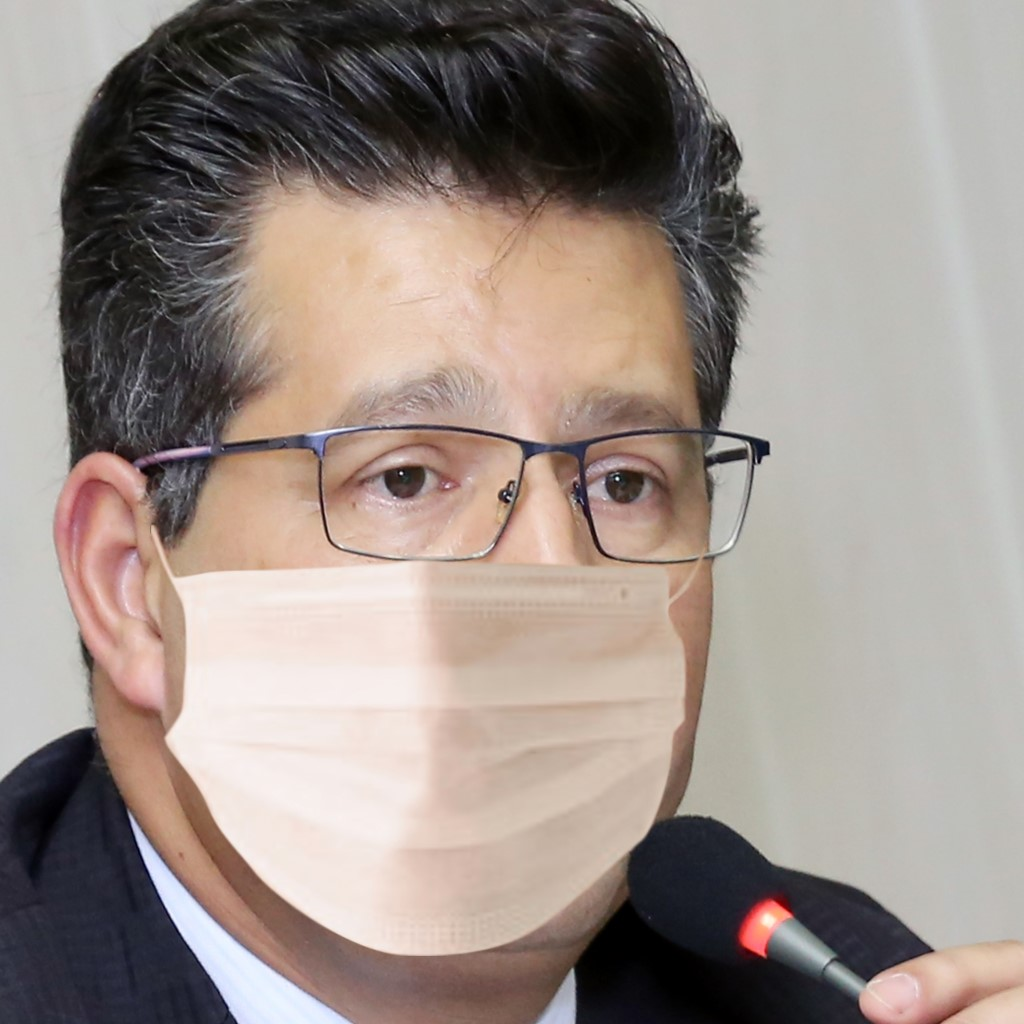con_mascara: (84, 142, 708, 918)
